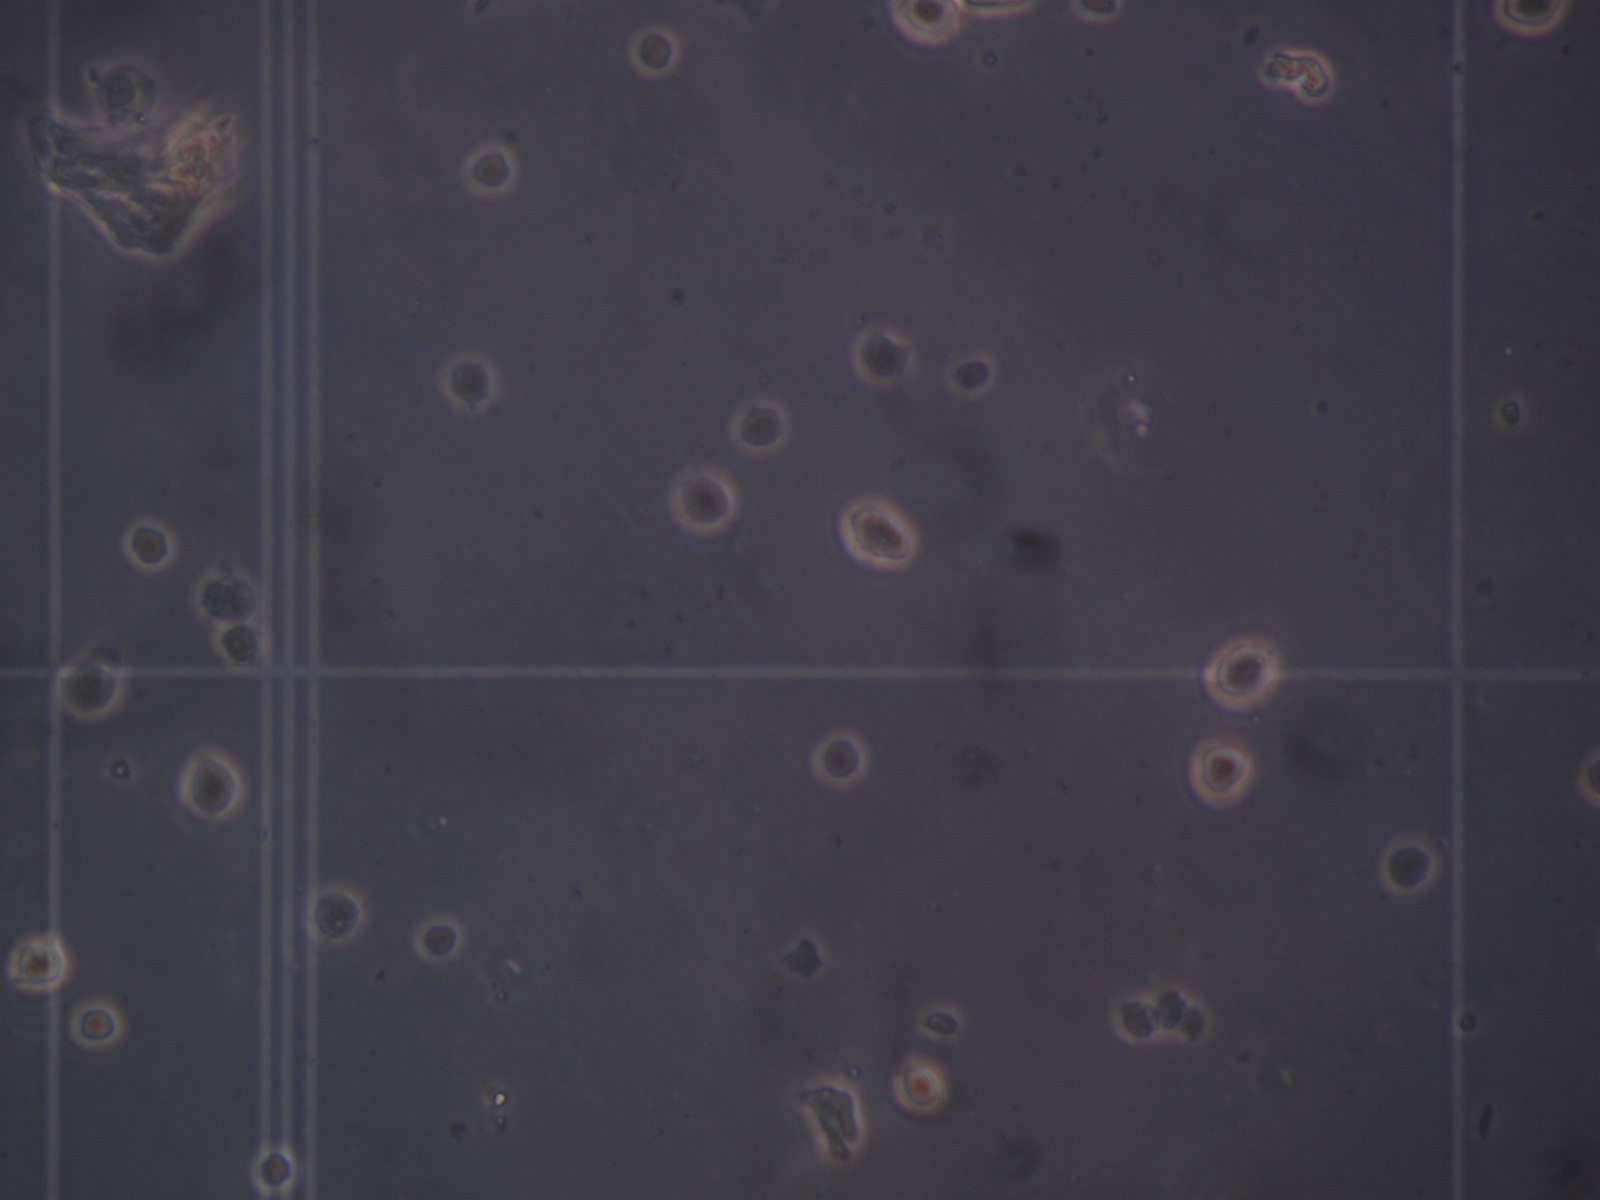hemo: (839, 495, 917, 570), (1204, 637, 1277, 710), (179, 747, 244, 821), (669, 466, 737, 534), (850, 325, 917, 391), (1189, 737, 1254, 805), (57, 657, 123, 721), (191, 568, 261, 625), (8, 935, 69, 992), (309, 885, 365, 945), (1380, 837, 1437, 895), (731, 400, 789, 456), (440, 353, 496, 410), (892, 1058, 947, 1114), (889, 3, 963, 45), (811, 731, 867, 787), (462, 142, 517, 197), (121, 518, 175, 571), (627, 25, 680, 78), (69, 1000, 123, 1050), (212, 621, 267, 671), (1492, 1, 1569, 37), (1115, 996, 1163, 1045), (251, 1145, 297, 1194), (414, 916, 464, 963), (1153, 983, 1192, 1040), (1293, 64, 1335, 105), (1178, 1000, 1214, 1046), (918, 1005, 963, 1041), (1576, 747, 1600, 809), (1070, 1, 1123, 24)
